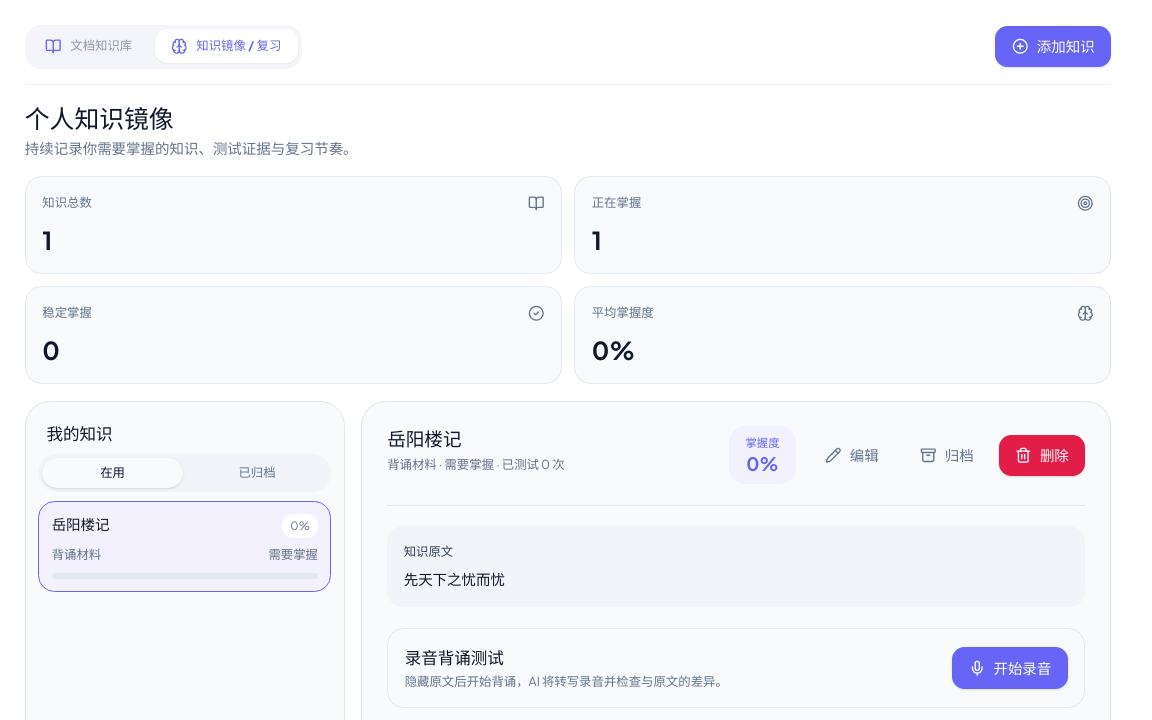
KnowledgeMirrorPage reliability › 麦克风权限被拒绝时给出明确恢复指引
Click the button "开始录音" at {"x": 1010, "y": 668}, box [952, 648, 1068, 689]
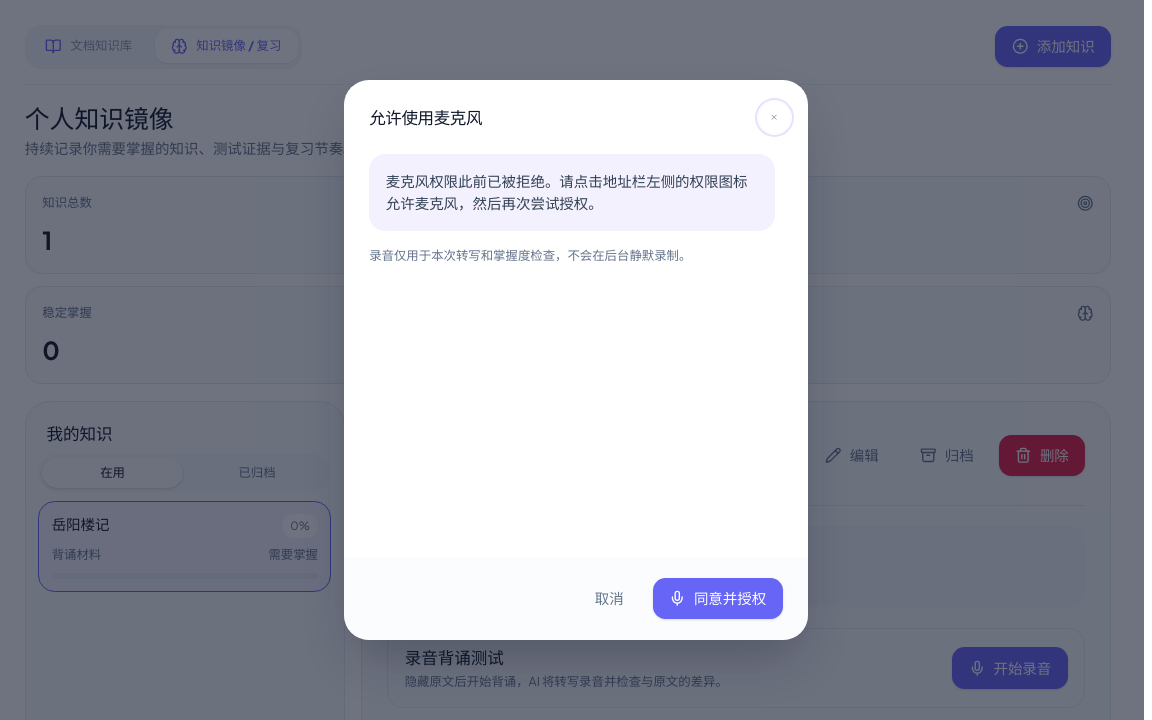
Check: the text "麦克风权限此前已被拒绝。请点击地址栏左侧的权限图标允许麦克风，然后再次尝试授权。" is shown, box [369, 154, 775, 231]
